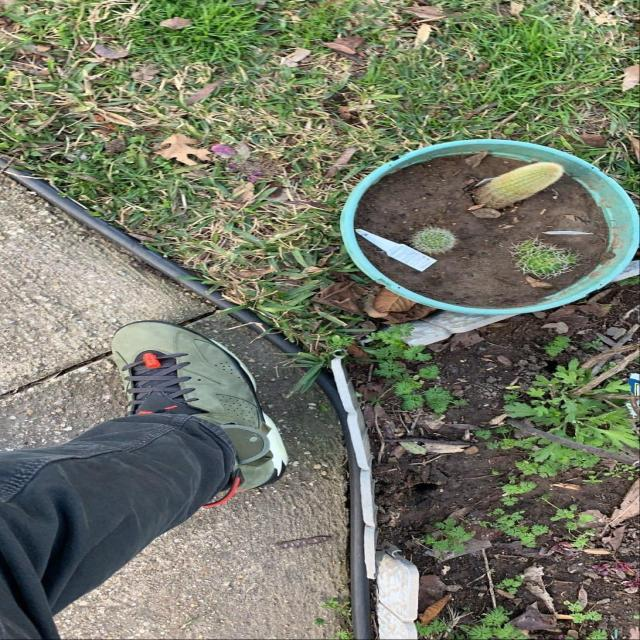shoe: (70, 301, 310, 516)
